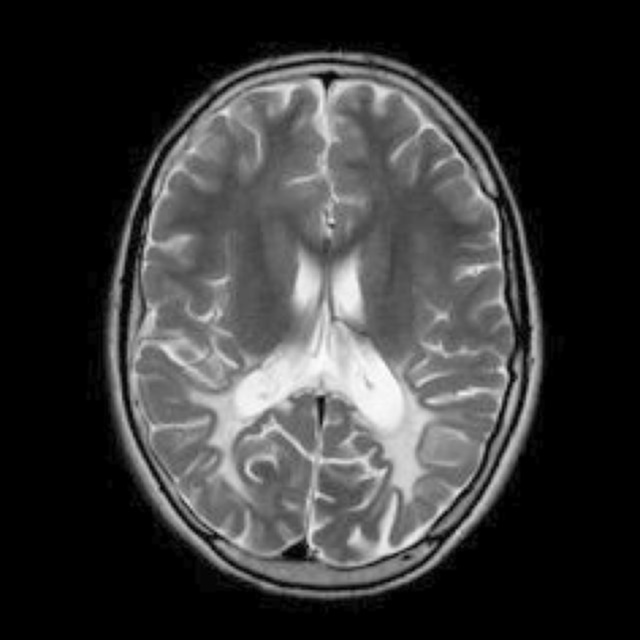glioma tumor: (190, 95, 434, 542)
